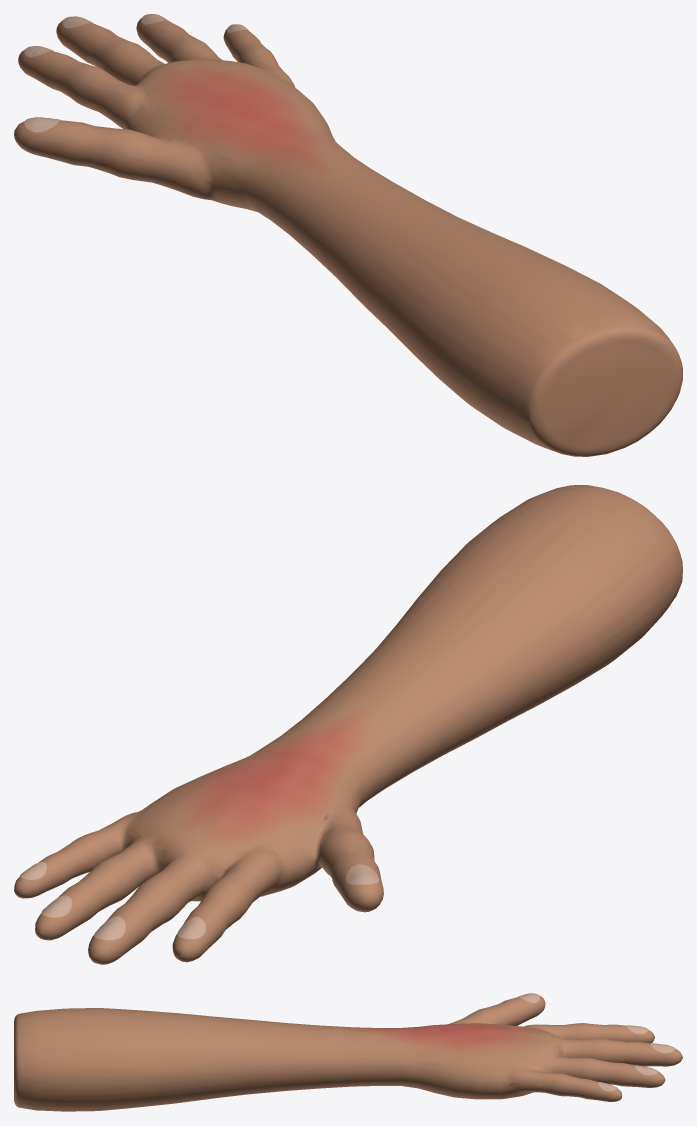
Rendered from FirstAid_Burn_HandForearm.glb.
3 renders of one model, top to bottom at view 1: azimuth 30°, elevation 25°; view 2: azimuth 150°, elevation 25°; view 3: azimuth 270°, elevation 25°, orthographic. The views are drawn at different scales.
Visible parts, largest first — view 1: HandForearm_Body, Burn_HandForearm, Hand_Nails; view 2: HandForearm_Body, Burn_HandForearm, Hand_Nails; view 3: HandForearm_Body, Burn_HandForearm, Hand_Nails.
Part boxes in pixels (box(x1,y1,x2,y2)): HandForearm_Body: box(14, 18, 682, 456); Burn_HandForearm: box(133, 59, 358, 198); Hand_Nails: box(24, 14, 248, 132); HandForearm_Body: box(14, 485, 682, 964); Burn_HandForearm: box(147, 691, 406, 871); Hand_Nails: box(20, 862, 379, 940); HandForearm_Body: box(14, 995, 682, 1111); Burn_HandForearm: box(321, 1021, 559, 1066); Hand_Nails: box(518, 993, 675, 1091).
Bounding box in the file's own units: 0.1463 × 0.0658 × 0.4555.
